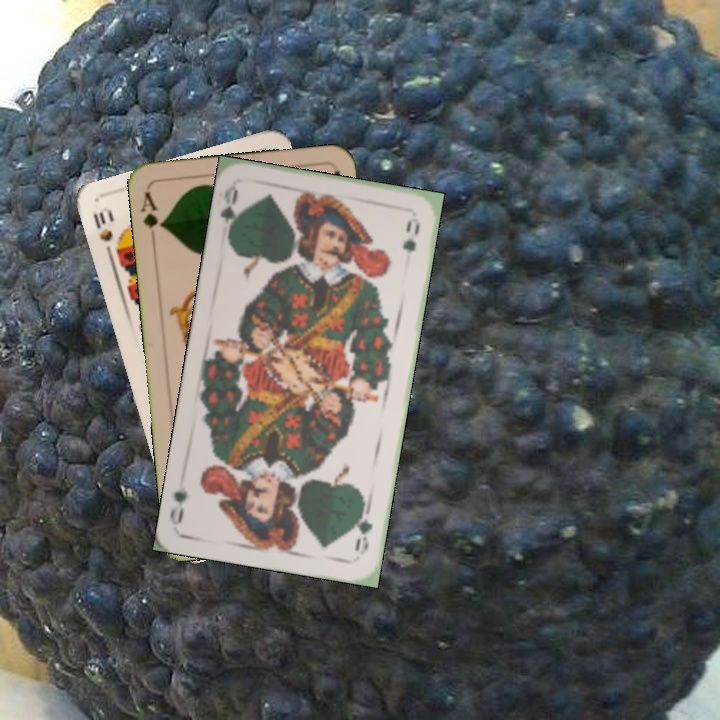GA: (137, 187, 166, 246)
GO: (216, 182, 245, 242), (350, 499, 375, 558)
S10: (89, 206, 116, 262)
